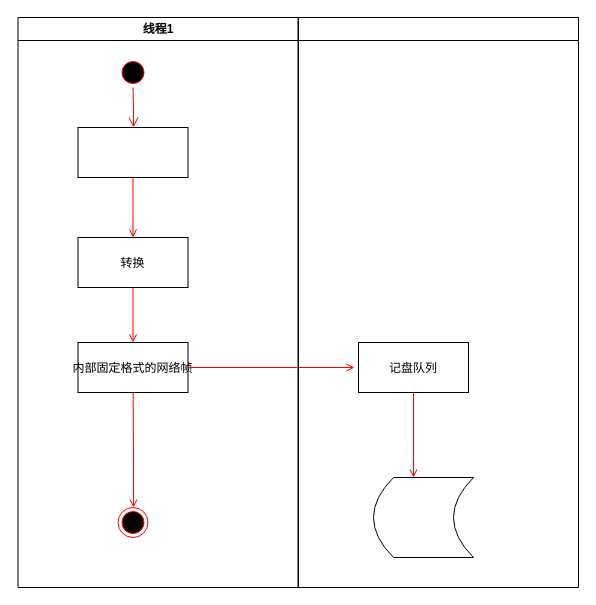
Image size: 596x605. Some labels were removed from this diagram. The shapes that lost their labels are listed below. From the top down, each one's box as (x1, y1, x2, y2) in pixels, then its label:
(77, 126, 188, 178): 不同格式的网络帧
(298, 16, 578, 588): 线程2
